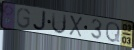3: (90, 18, 103, 41)
G: (16, 8, 32, 30)
J: (32, 10, 48, 32)
Q: (104, 21, 121, 44)
U: (51, 11, 68, 35)
X: (68, 14, 83, 39)
